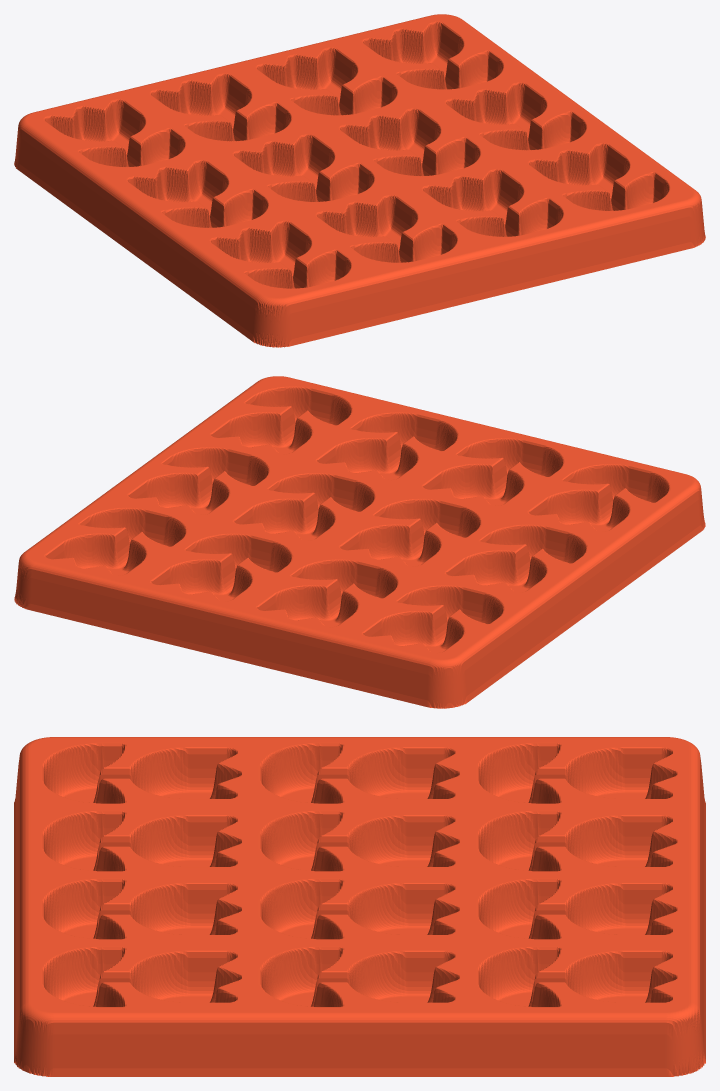
Rendered from mold.glb.
The picture shows the model from 3 angles, top to bottom: view 1: azimuth 30°, elevation 25°; view 2: azimuth 150°, elevation 25°; view 3: azimuth 270°, elevation 25°; orthographic projection. The views are drawn at different scales.
Parts seen in each view (by area): view 1: geometry_0; view 2: geometry_0; view 3: geometry_0.
Part boxes in pixels (x1=…): geometry_0: x1=14, y1=14, x2=705, y2=347; geometry_0: x1=14, y1=376, x2=705, y2=708; geometry_0: x1=14, y1=737, x2=705, y2=1076.
Size of the model in its own units: 0.1551 by 0.0145 by 0.1575.
